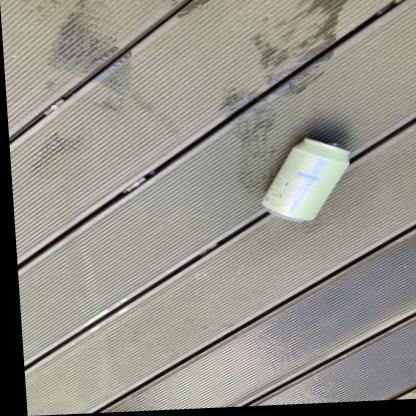trash: (262, 138, 349, 219)
